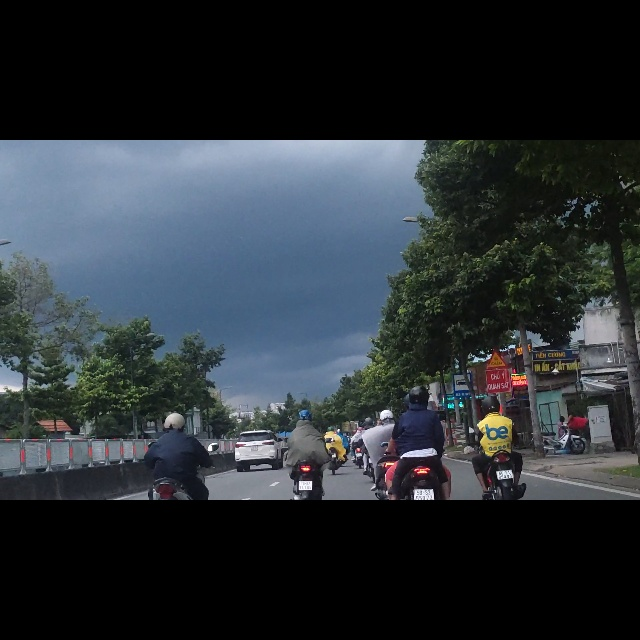bien_nguy_hiem: (452, 412, 473, 460), (487, 373, 507, 407)
